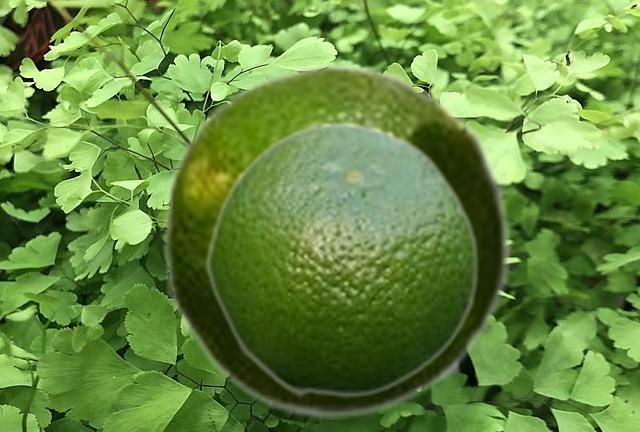calamansi: (160, 62, 512, 418), (204, 119, 479, 397)
